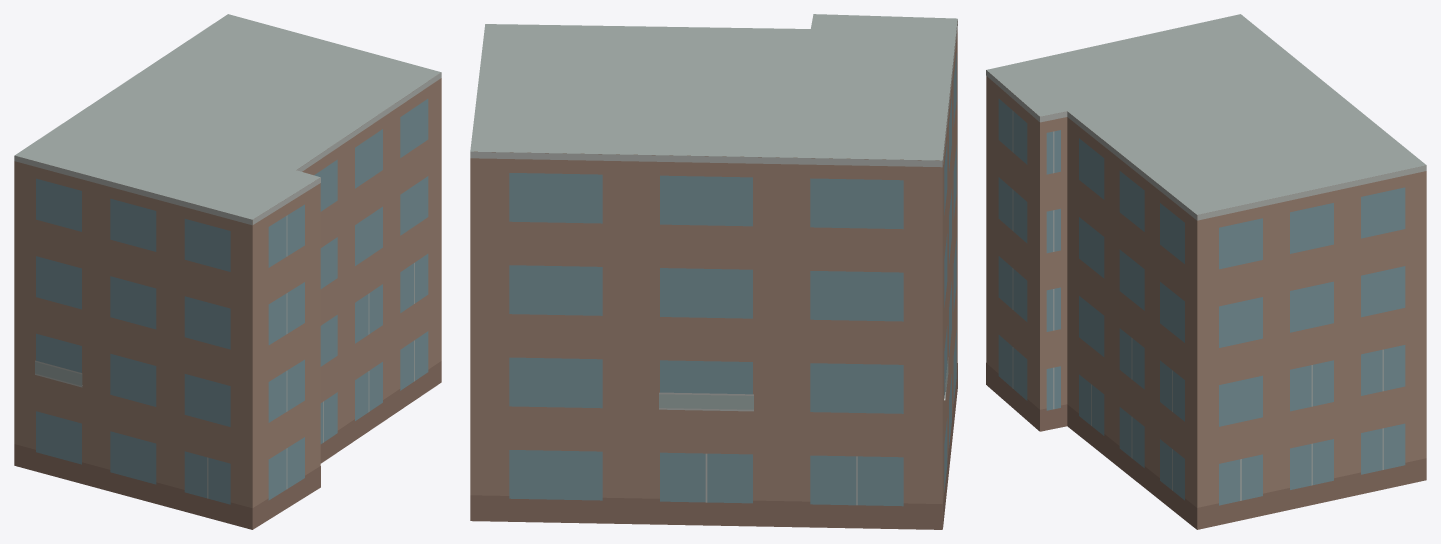
File: survey-upis-32949189.glb
The picture shows the model from 3 angles, left to right: view 1: azimuth 30°, elevation 25°; view 2: azimuth 150°, elevation 25°; view 3: azimuth 270°, elevation 25°; orthographic projection. The views are drawn at different scales.
Visible parts, largest first — view 1: survey-upis-32949189.tmp; view 2: survey-upis-32949189.tmp; view 3: survey-upis-32949189.tmp.
Part boxes in pixels (x1,y1,x2,y2): survey-upis-32949189.tmp: (14,14,441,529); survey-upis-32949189.tmp: (470,14,957,529); survey-upis-32949189.tmp: (986,14,1426,529).
Bounding box in the file's own units: 18.49 × 13.5 × 17.12.
